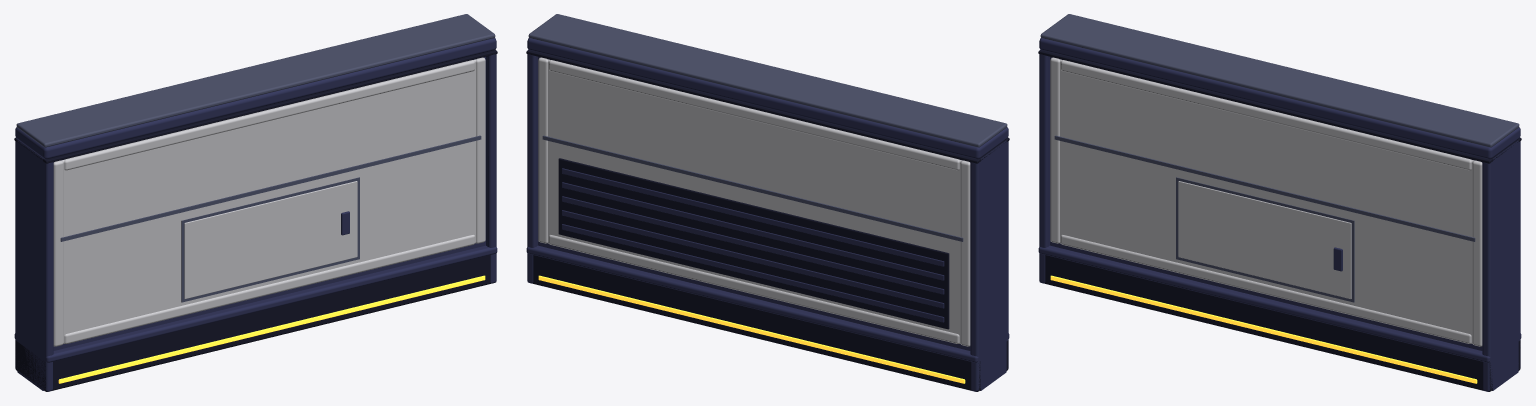
Rendered from int.halfwall.l2.15.glb.
3 views of the same model, side by side, from view 1: azimuth 30°, elevation 25°; view 2: azimuth 150°, elevation 25°; view 3: azimuth 330°, elevation 25° (orthographic).
Visible parts, largest first — view 1: int.halfwall.l2.15; view 2: int.halfwall.l2.15; view 3: int.halfwall.l2.15.
Boxes of the visible parts, left/top/right/bottom form: int.halfwall.l2.15: left=14, top=14, right=497, bottom=391; int.halfwall.l2.15: left=526, top=14, right=1009, bottom=391; int.halfwall.l2.15: left=1038, top=14, right=1521, bottom=391.
Size of the model in its own units: 2.16 by 1.13 by 0.278.
